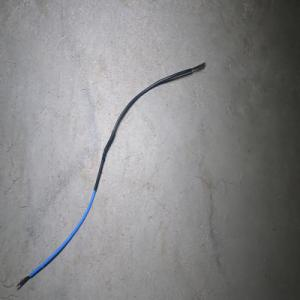Wire: (16, 62, 206, 290)
